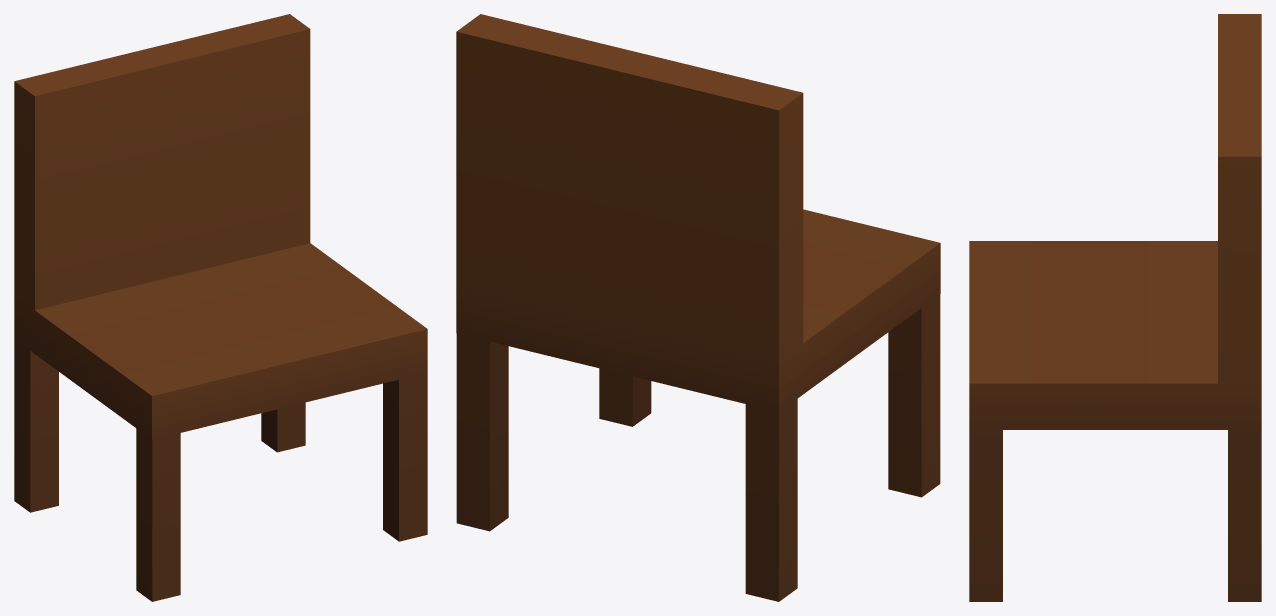
Rendered from Chair_Brown_spruce.fbx.
The picture shows the model from 3 angles, left to right: view 1: azimuth 30°, elevation 25°; view 2: azimuth 150°, elevation 25°; view 3: azimuth 270°, elevation 25°; orthographic projection. The views are drawn at different scales.
Parts seen in each view (by area): view 1: Chair_Brown.spruce; view 2: Chair_Brown.spruce; view 3: Chair_Brown.spruce.
Boxes of the visible parts, x1,y1,x2,y2 form: Chair_Brown.spruce: (14, 14, 427, 601); Chair_Brown.spruce: (456, 14, 940, 601); Chair_Brown.spruce: (969, 14, 1261, 601).
Size of the model in its own units: 74.99 by 109 by 65.
